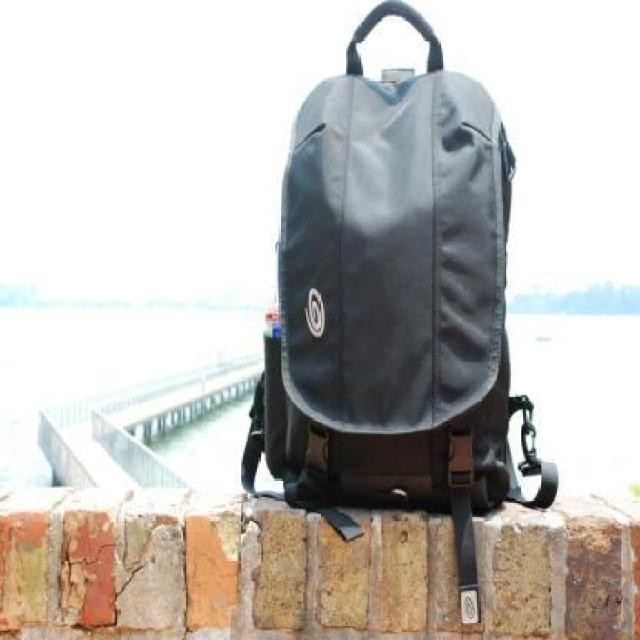backpack: (237, 0, 564, 515)
